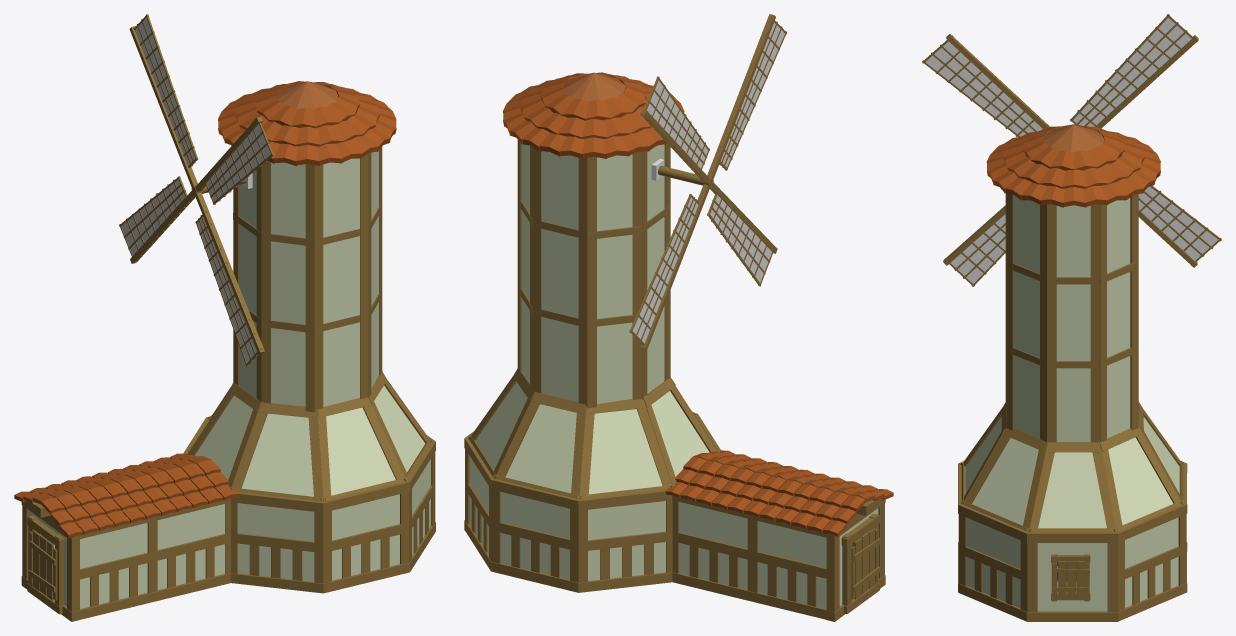
File: windmill.glb
The picture shows the model from 3 angles, left to right: view 1: azimuth 30°, elevation 25°; view 2: azimuth 150°, elevation 25°; view 3: azimuth 270°, elevation 25°; orthographic projection. The views are drawn at different scales.
Parts seen in each view (by area): view 1: Cube.006, Plank.211, Plank.006; view 2: Cube.006, Plank.211, Plank.006; view 3: Cube.006, Plank.211, Plank.012.
Boxes of the visible parts, x1,y1,x2,y2 form: Cube.006: (14, 81, 435, 621); Plank.211: (119, 14, 273, 366); Plank.006: (28, 530, 57, 600); Cube.006: (464, 72, 893, 621); Plank.211: (629, 14, 786, 350); Plank.006: (851, 528, 880, 599); Cube.006: (958, 124, 1187, 621); Plank.211: (922, 14, 1221, 286); Plank.012: (1053, 560, 1089, 597).
Bounding box in the file's own units: 8.75 × 11.45 × 6.16.
